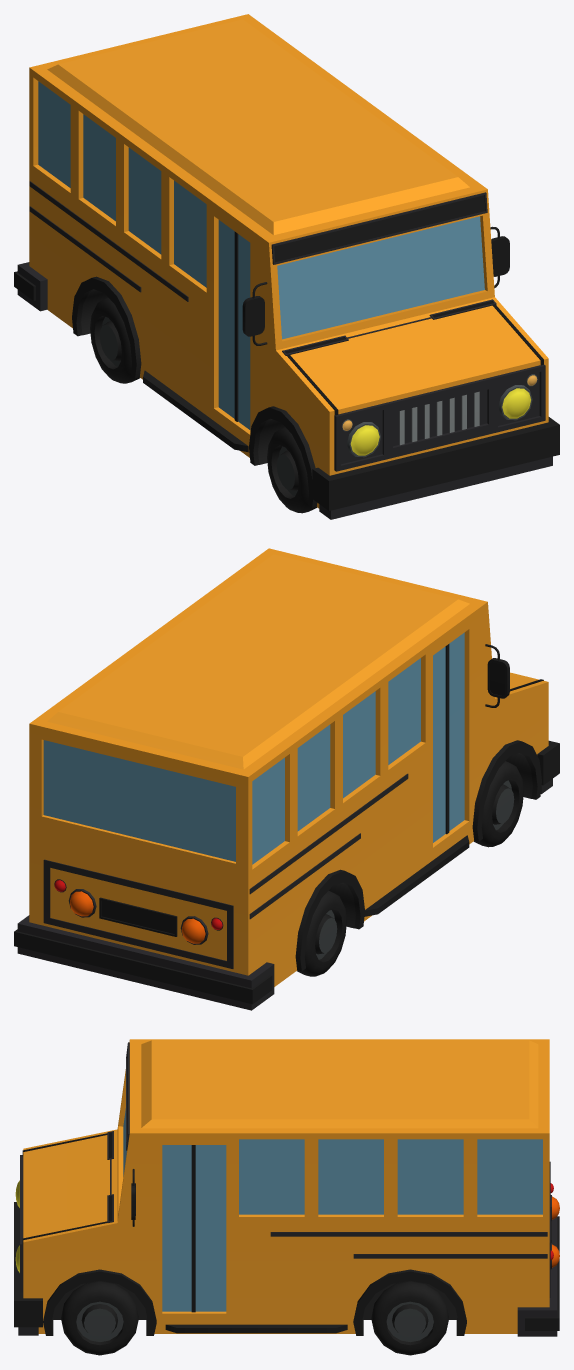
File: Car 08.fbx
3 renders of one model, top to bottom at view 1: azimuth 30°, elevation 25°; view 2: azimuth 150°, elevation 25°; view 3: azimuth 270°, elevation 25°, orthographic. The views are drawn at different scales.
Parts seen in each view (by area): view 1: Car 08; view 2: Car 08; view 3: Car 08.
Boxes of the visible parts, x1=… form: Car 08: x1=14, y1=14, x2=559, y2=519; Car 08: x1=14, y1=548, x2=559, y2=1010; Car 08: x1=14, y1=1039, x2=559, y2=1355.
Bounding box in the file's own units: 309 × 295 × 630.
1 material, 1 textured.
